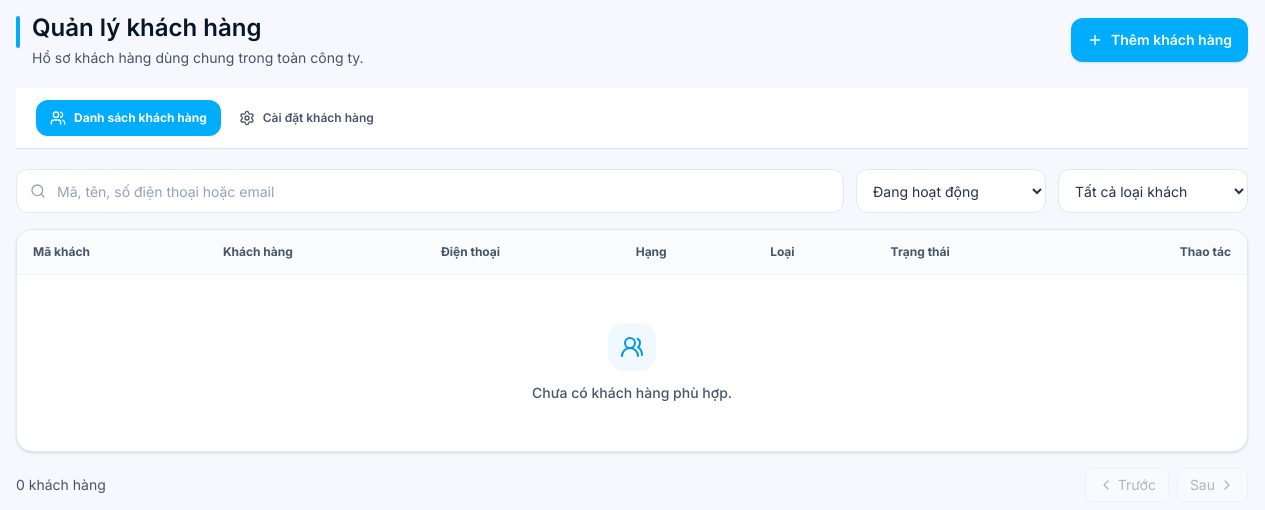
Test: CustomerWorkspace › ignores an older customer list response after the filter changes
Select "Ngừng hoạt động" in the dropdown named "Trạng thái" at [951, 191], box [856,169,1046,213]
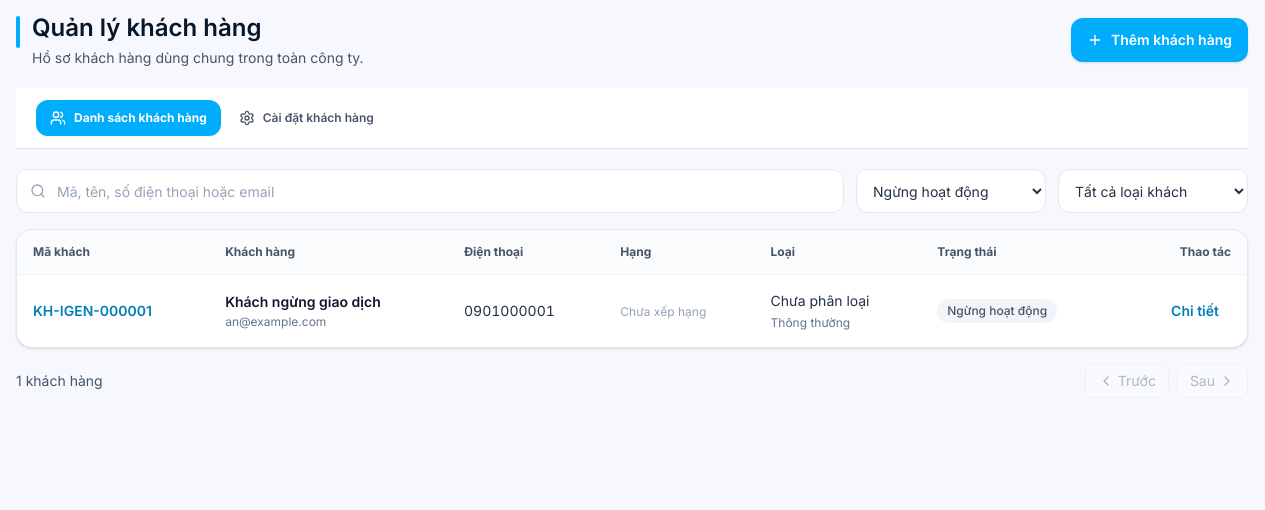
Check: the text "Khách ngừng giao dịch" is shown, box [225,293,381,310]
